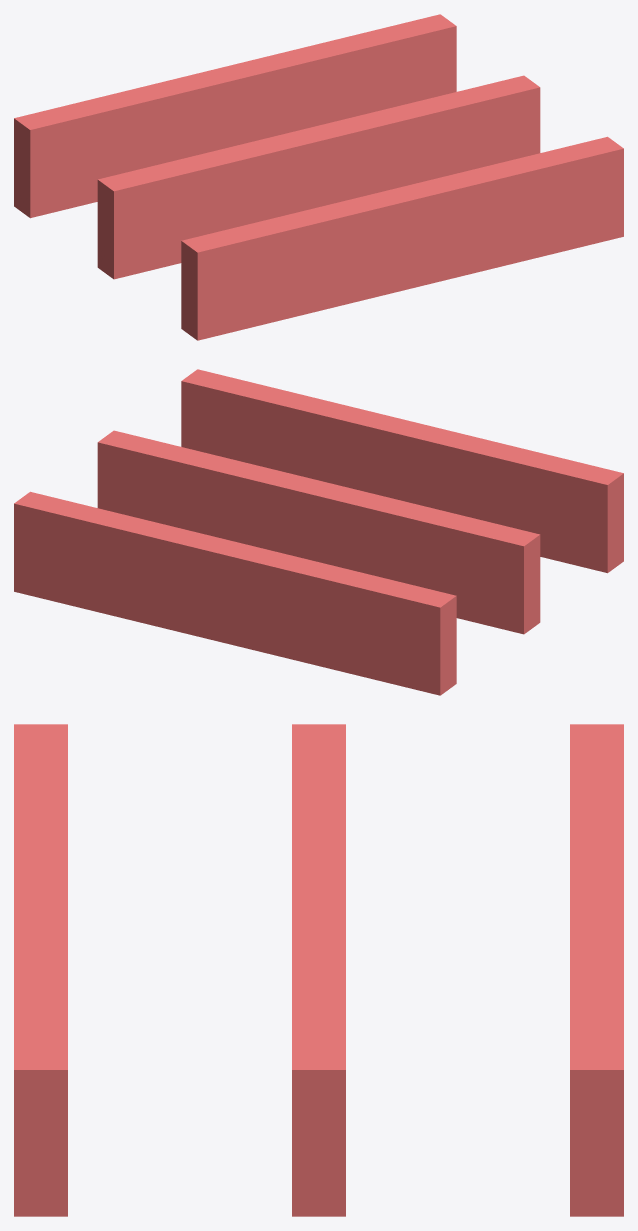
Rendered from flat_3_paralell.dae.
3 renders of one model, top to bottom at view 1: azimuth 30°, elevation 25°; view 2: azimuth 150°, elevation 25°; view 3: azimuth 270°, elevation 25°, orthographic. The views are drawn at different scales.
Parts seen in each view (by area): view 1: base (×3); view 2: base (×3); view 3: base (×3).
Boxes of the visible parts, x1,y1,x2,y2 form: base (×3): [14, 14, 623, 340]; base (×3): [14, 369, 623, 695]; base (×3): [14, 724, 623, 1216].
Size of the model in its own units: 0.1177 by 0.0877 by 0.0232.
